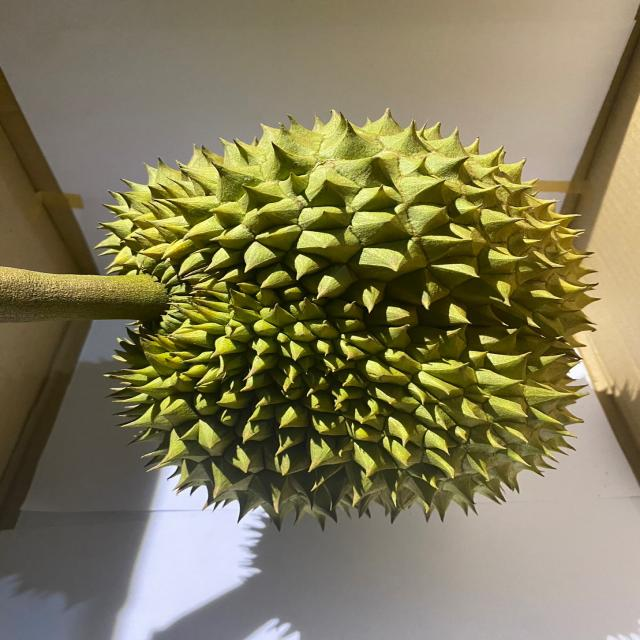immature: (90, 104, 596, 529)
